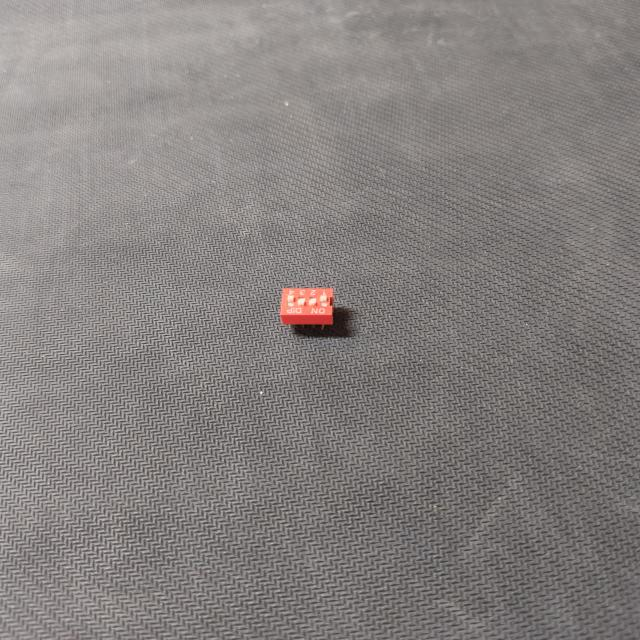switch: (271, 282, 356, 334)
